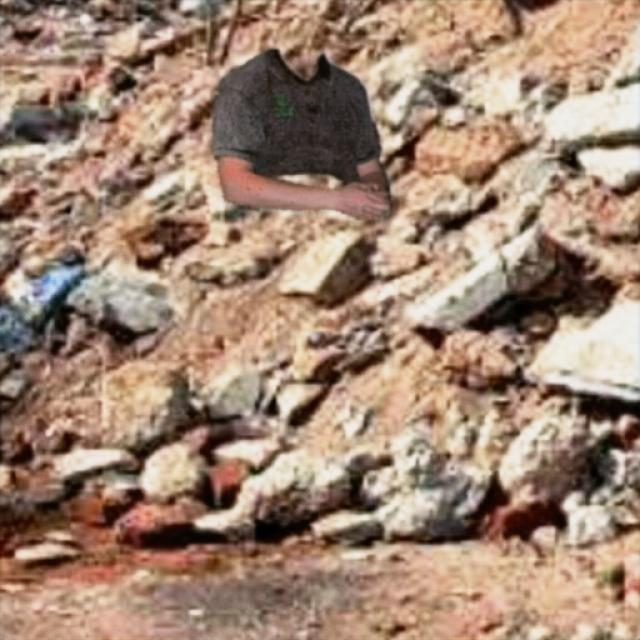Person in Rubble: (211, 49, 391, 219)
